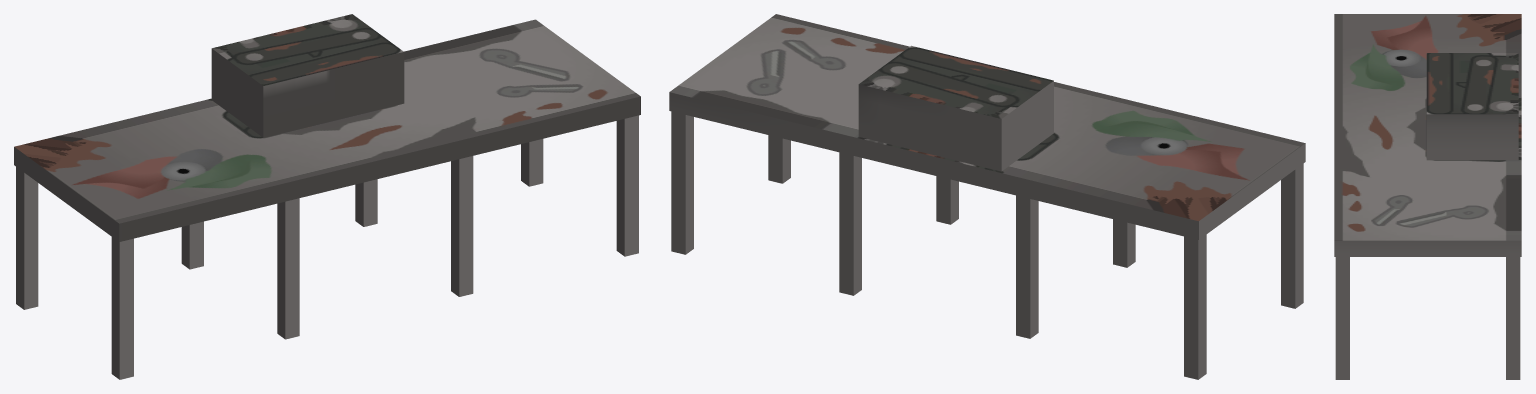
The model's file is Building_AncientTableTailorElectric.obj.
3 views of the same model, side by side, from view 1: azimuth 30°, elevation 25°; view 2: azimuth 150°, elevation 25°; view 3: azimuth 270°, elevation 25° (orthographic). The views are drawn at different scales.
Parts seen in each view (by area): view 1: Body; view 2: Body; view 3: Body.
Boxes of the visible parts, x1=… form: Body: x1=14, y1=14, x2=640, y2=379; Body: x1=669, y1=14, x2=1305, y2=379; Body: x1=1334, y1=14, x2=1521, y2=379.
Size of the model in its own units: 2.95 by 1.13 by 1.03.
Materials: 1 (1 with a texture image).
